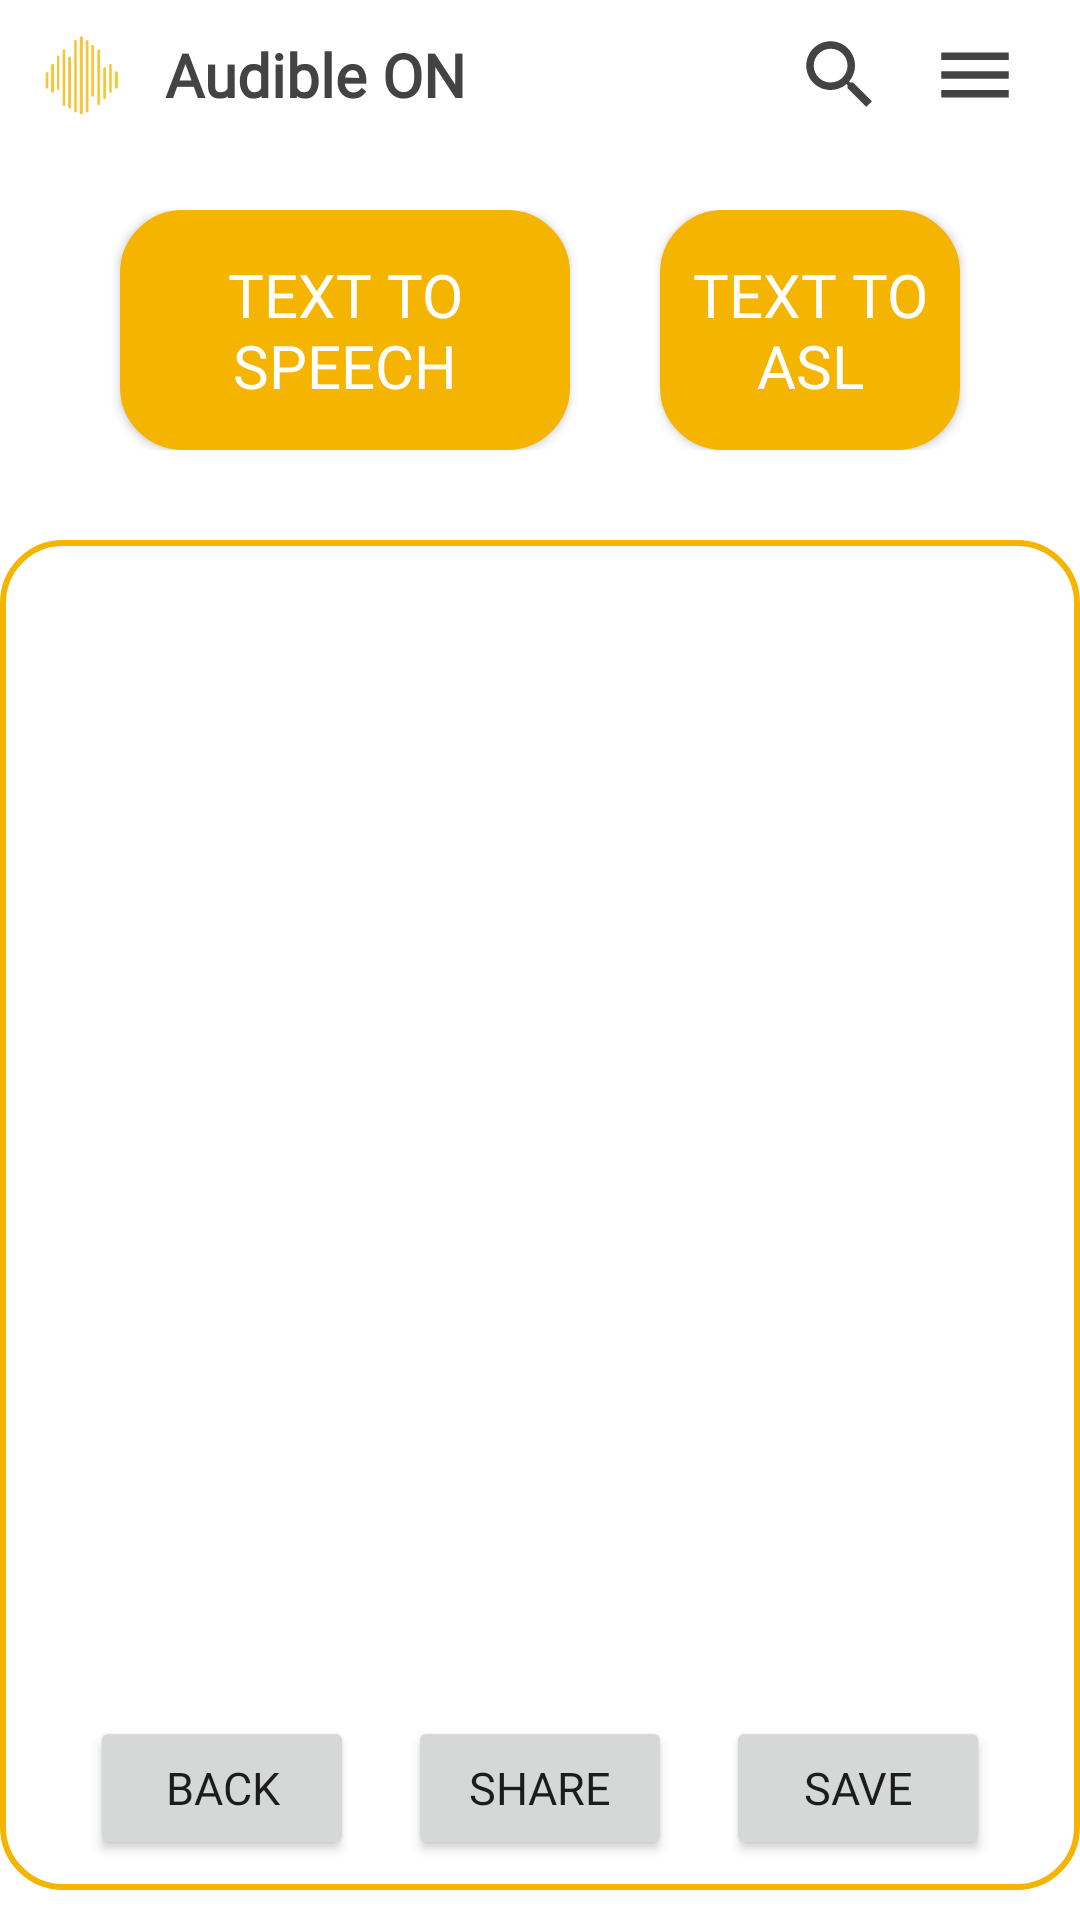

Icon click points for this 1080 x 1920 phone screenshot, format (x=x, y=y):
menu: (x=975, y=75)
search: (x=839, y=74)
